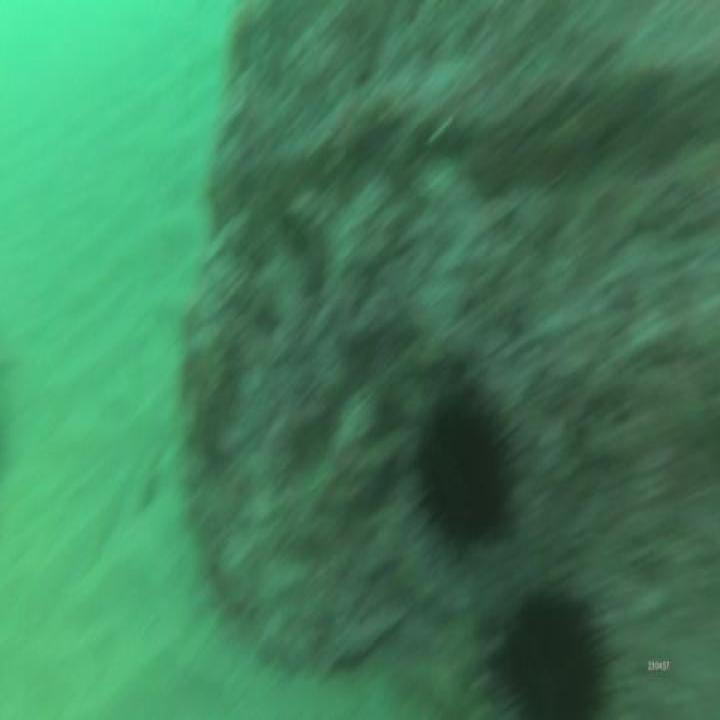echinus: (497, 594, 606, 720), (419, 395, 507, 544)
